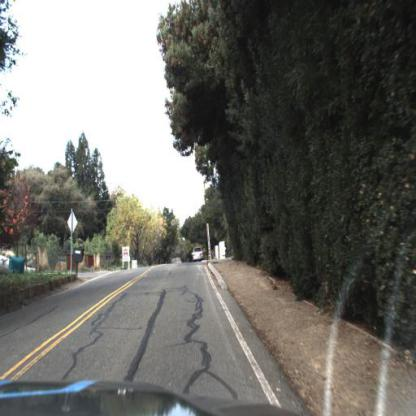car: (188, 243, 207, 269)
